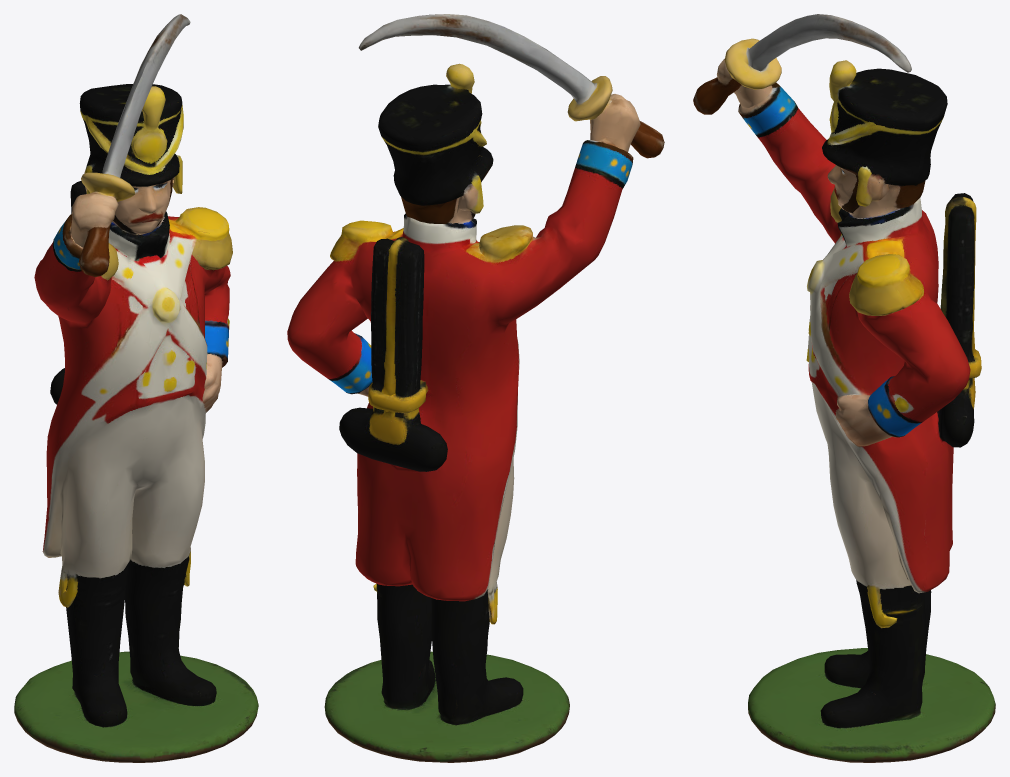
Rendered from officer.glb.
3 views of the same model, side by side, from view 1: azimuth 30°, elevation 25°; view 2: azimuth 150°, elevation 25°; view 3: azimuth 270°, elevation 25° (orthographic). The views are drawn at different scales.
Visible parts, largest first — view 1: world; view 2: world; view 3: world.
Boxes of the visible parts, x1=… form: world: x1=14, y1=14, x2=258, y2=762; world: x1=287, y1=14, x2=664, y2=762; world: x1=693, y1=14, x2=995, y2=762.
Size of the model in its own units: 0.3918 by 1 by 0.3915.
Materials: 1 (1 with a texture image).
